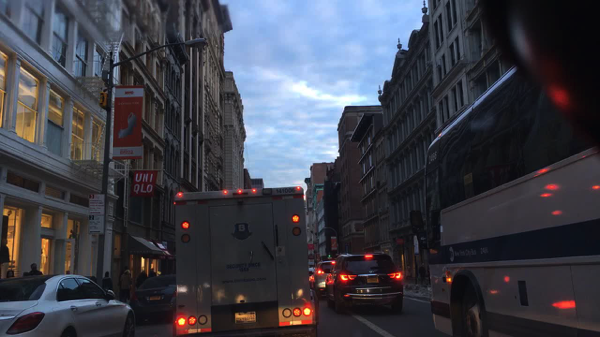bus: (423, 65, 599, 336)
car: (0, 274, 136, 336), (326, 253, 404, 314), (129, 273, 178, 324), (314, 261, 335, 301), (308, 269, 316, 294)
person: (121, 268, 132, 303), (104, 271, 113, 294), (139, 268, 147, 289), (30, 262, 40, 275), (119, 267, 125, 287), (148, 266, 155, 278), (66, 267, 72, 278), (7, 268, 15, 276)
traffic light: (328, 253, 331, 263)
traffic sign: (88, 195, 105, 215), (88, 217, 104, 236)
truck: (173, 186, 320, 336)
